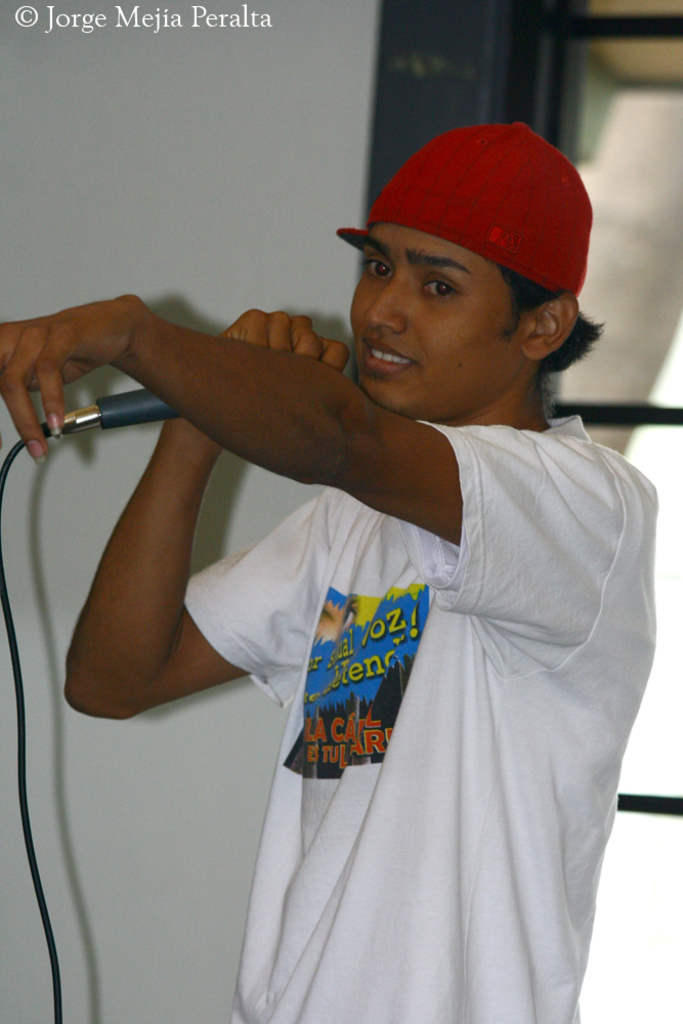Human_hand: (0, 292, 142, 467), (217, 307, 352, 373)
